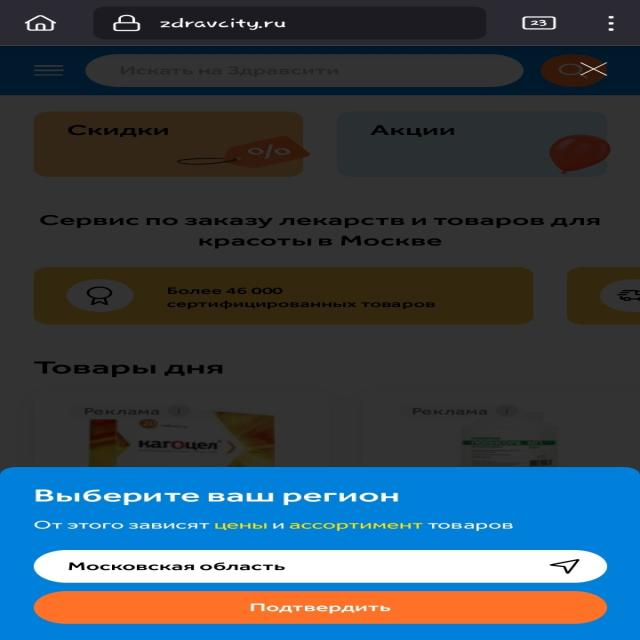button: (34, 590, 610, 624), (578, 62, 610, 78)
site: (0, 467, 640, 640)
